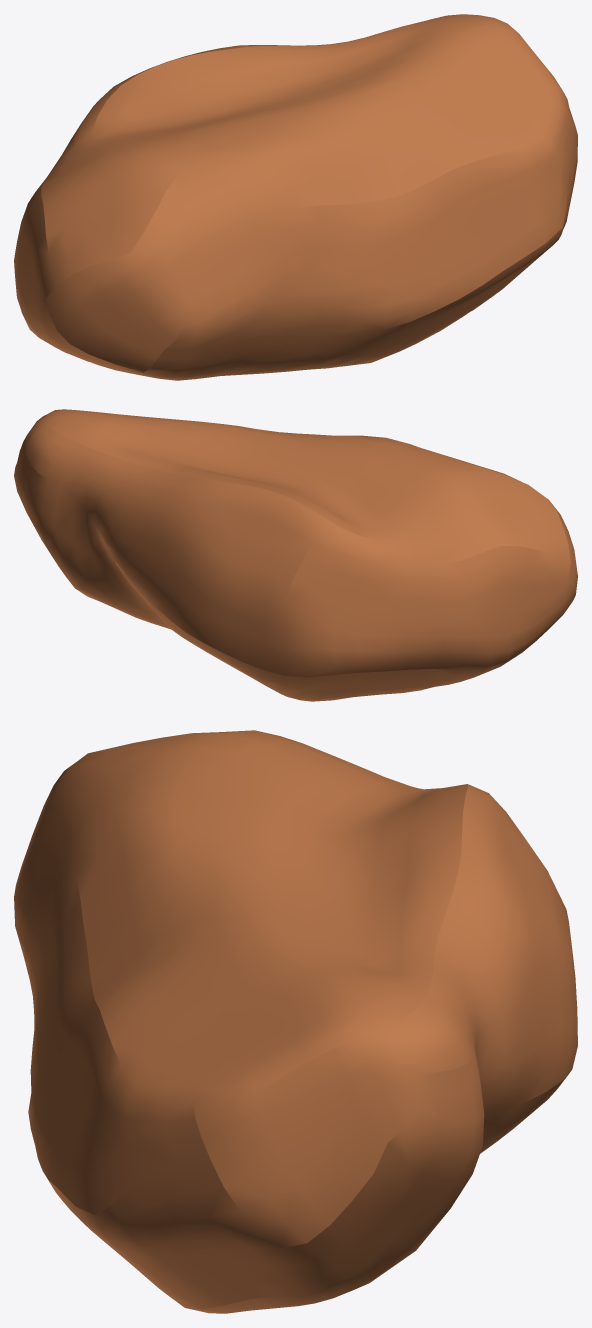
Rendered from MM_Rock_03.fbx.
The picture shows the model from 3 angles, top to bottom: view 1: azimuth 30°, elevation 25°; view 2: azimuth 150°, elevation 25°; view 3: azimuth 270°, elevation 25°; orthographic projection. The views are drawn at different scales.
Visible parts, largest first — view 1: rock_3; view 2: rock_3; view 3: rock_3.
Part boxes in pixels (bbox=[...]): rock_3: bbox=[14, 14, 577, 380]; rock_3: bbox=[14, 409, 577, 701]; rock_3: bbox=[14, 730, 577, 1313].
Size of the model in its own units: 438 by 184 by 253.
